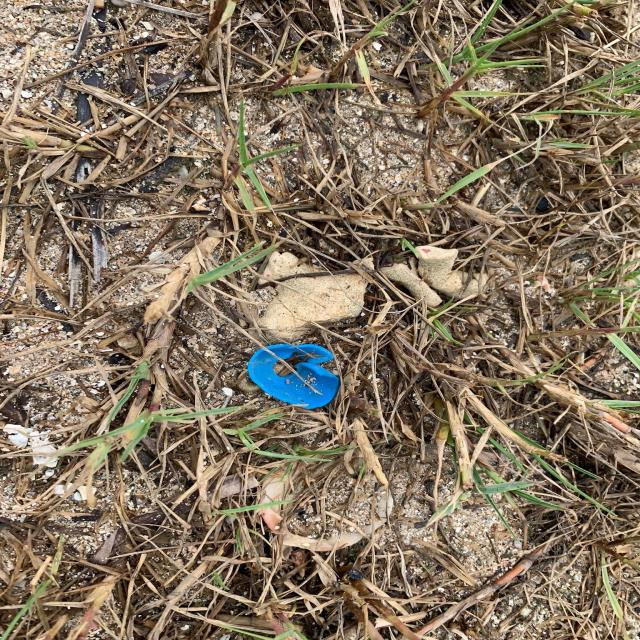litter: (244, 344, 340, 411)
